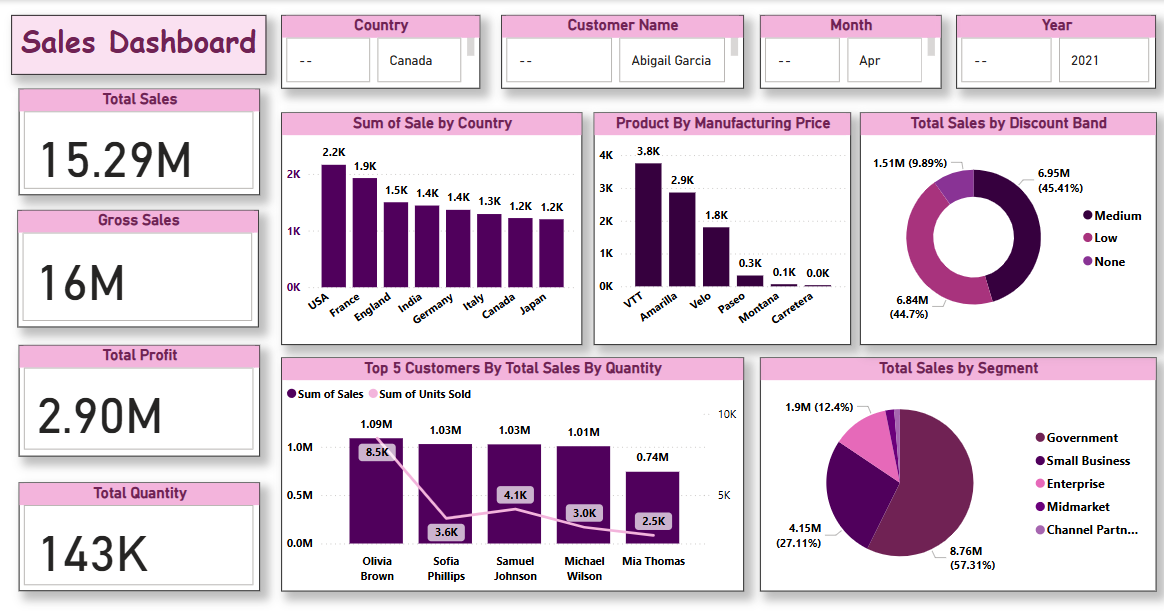

Layout of this report page (visuals, bound fields, positions):
{"tool":"powerbi","page":{"name":"Page 1","canvas":[1280,720],"ordinal":0},"visuals":[{"type":"textbox","box":[12.3,16.5,279.9,65.9],"z":0},{"type":"advancedSlicerVisual","fields":{"Values":["Sheet1.Year"]},"box":[1049.7,16.5,219.6,81],"z":1000},{"type":"advancedSlicerVisual","fields":{"Values":["Sheet1.Month"]},"box":[834.3,16.5,199,81],"z":2000},{"type":"advancedSlicerVisual","title":"Customer Name","fields":{"Values":["Sheet1.Customer_Name"]},"box":[550.3,16.5,266.2,81],"z":3000},{"type":"cardVisual","title":"Total Sales","fields":{"Data":["Sheet1.Sales"]},"box":[20.6,97.4,264.8,116.6],"z":4000},{"type":"cardVisual","title":"Gross Sales","fields":{"Data":["Sheet1.Gross Sales"]},"box":[19.2,230.5,264.8,129],"z":5000},{"type":"cardVisual","title":"Total Profit","fields":{"Data":["Sheet1.Profit"]},"box":[20.6,378.7,264.8,122.1],"z":6000},{"type":"advancedSlicerVisual","fields":{"Values":["Sheet1.Country"]},"box":[308.7,16.5,218.2,81],"z":7000},{"type":"cardVisual","title":"Total Quantity","fields":{"Data":["Sheet1.Units Sold"]},"box":[20.6,529.7,264.8,119.4],"z":8000},{"type":"columnChart","title":"Sum of Sale by Country","fields":{"Y":["Sheet1.Sale Price"],"Category":["Sheet1.Country"]},"box":[308.7,123.5,330.7,255.2],"z":9000},{"type":"columnChart","title":"Product By Manufacturing Price","fields":{"Category":["Sheet1.Product_Name"],"Y":["Sheet1.Manufacturing Price"]},"box":[651.8,123.5,282.7,255.2],"z":10000},{"type":"pieChart","title":"Total Sales by Segment","fields":{"Y":["Sheet1.Sales"],"Category":["Sheet1.Segment"]},"box":[834.3,392.5,435,256.6],"z":11000},{"type":"lineClusteredColumnComboChart","title":"Top 5 Customers By Total Sales By Quantity","fields":{"Category":["Sheet1.Customer_Name"],"Y":["Sheet1.Sales"],"Y2":["Sheet1.Units Sold"]},"box":[308.7,392.5,507.7,256.6],"z":12000},{"type":"donutChart","title":"Total Sales by Discount Band","fields":{"Y":["Sheet1.Sales"],"Category":["Sheet1.Discount Band"]},"box":[944.1,123.5,325.2,255.2],"z":13000}]}

Visuals, with their boxes on the page's 1280x720 design canvas (x1, y1, x2, y2). These are canvas units, not pixel positions in the 1164x611 screenshot, which may show the page scaled, cropped or inside an application window:
textbox: (x1=12, y1=16, x2=292, y2=82)
advancedSlicerVisual - Sheet1.Year: (x1=1050, y1=16, x2=1269, y2=98)
advancedSlicerVisual - Sheet1.Month: (x1=834, y1=16, x2=1033, y2=98)
"Customer Name" advancedSlicerVisual: (x1=550, y1=16, x2=816, y2=98)
"Total Sales" cardVisual: (x1=21, y1=97, x2=285, y2=214)
"Gross Sales" cardVisual: (x1=19, y1=230, x2=284, y2=360)
"Total Profit" cardVisual: (x1=21, y1=379, x2=285, y2=501)
advancedSlicerVisual - Sheet1.Country: (x1=309, y1=16, x2=527, y2=98)
"Total Quantity" cardVisual: (x1=21, y1=530, x2=285, y2=649)
"Sum of Sale by Country" columnChart: (x1=309, y1=124, x2=639, y2=379)
"Product By Manufacturing Price" columnChart: (x1=652, y1=124, x2=934, y2=379)
"Total Sales by Segment" pieChart: (x1=834, y1=392, x2=1269, y2=649)
"Top 5 Customers By Total Sales By Quantity" lineClusteredColumnComboChart: (x1=309, y1=392, x2=816, y2=649)
"Total Sales by Discount Band" donutChart: (x1=944, y1=124, x2=1269, y2=379)
